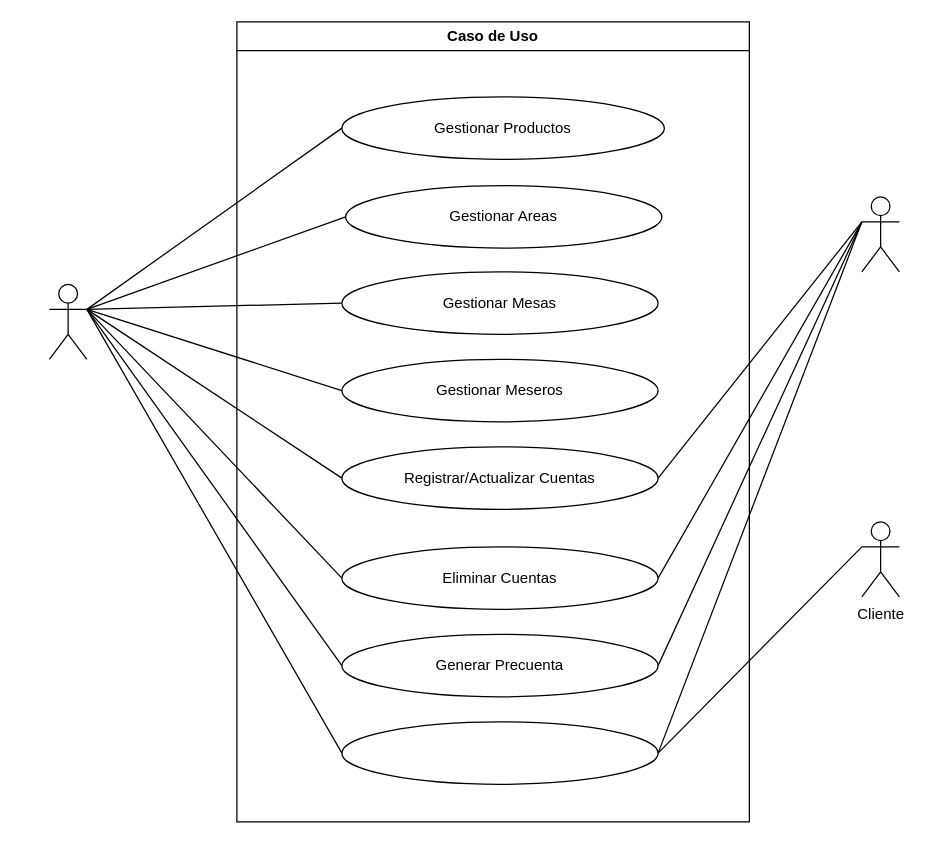
The diagram is 925 pixels wide and 844 high, and some of its shapes have lost their labels. Here are the shapes that lost their labels. From the top down, the box of each, then its label:
(861, 196, 899, 272): Cajero
(48, 283, 87, 359): Administrador
(341, 721, 658, 784): Visualizar Menu Productos
